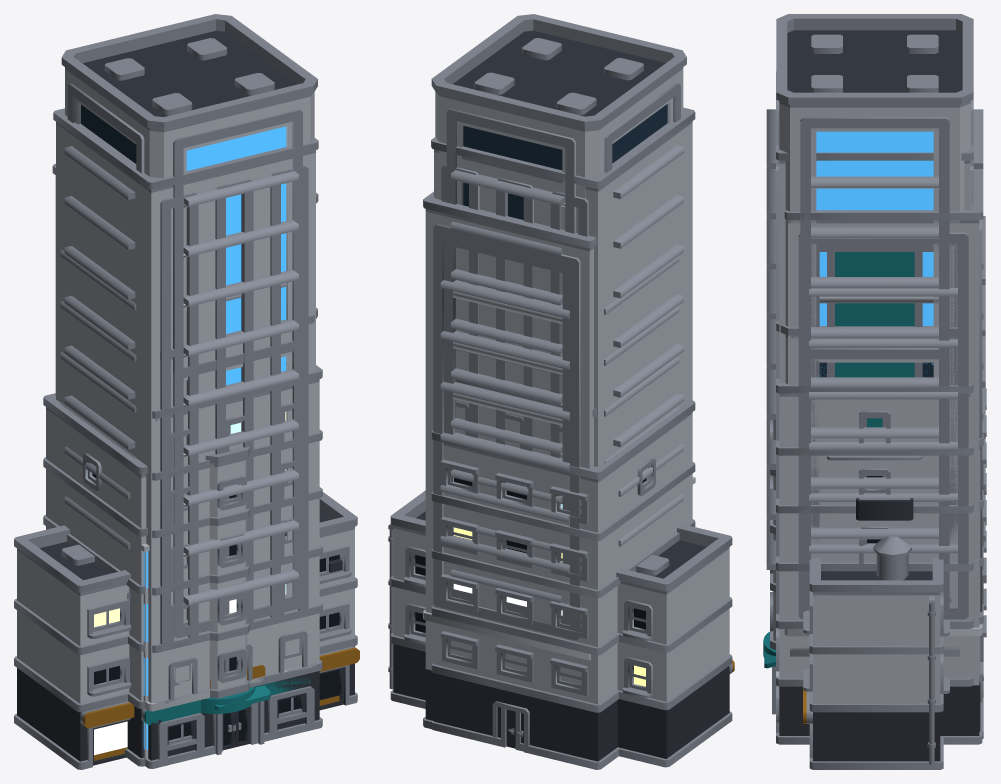
File: city-kit.glb
3 renders of one model, left to right at view 1: azimuth 30°, elevation 25°; view 2: azimuth 150°, elevation 25°; view 3: azimuth 270°, elevation 25°, orthographic.
Visible parts, largest first — view 1: kc-se, kc-sb, kc-k, kc-l, kc-m, kc-sa, kc-sc, nt-bank; view 2: kc-l, kc-sc, kc-sb, kc-se, kc-k, kc-sa, kc-m; view 3: kc-sb, kc-sc, kc-k, kc-m, kc-sa, kc-se, kc-l.
Part boxes in pixels (x1,y1,x2,y2): kc-se: (53,108,318,768); kc-sb: (61,14,317,635); kc-k: (14,492,359,769); kc-l: (43,393,310,766); kc-m: (152,365,322,766); kc-sa: (64,307,321,765); kc-sc: (52,163,318,754); nt-bank: (141,543,149,765); kc-l: (431,399,695,769); kc-sc: (423,191,679,760); kc-sb: (431,14,686,355); kc-se: (431,107,695,466); kc-k: (388,490,734,767); kc-sa: (451,344,683,602); kc-m: (455,379,596,456); kc-sb: (766,14,983,609); kc-sc: (764,169,985,744); kc-k: (803,536,949,769); kc-m: (776,378,973,744); kc-sa: (766,319,983,744); kc-se: (776,71,973,693); kc-l: (763,388,986,738).
Size of the model in its own units: 16.67 by 35.84 by 11.22.
1 material, 1 textured.
